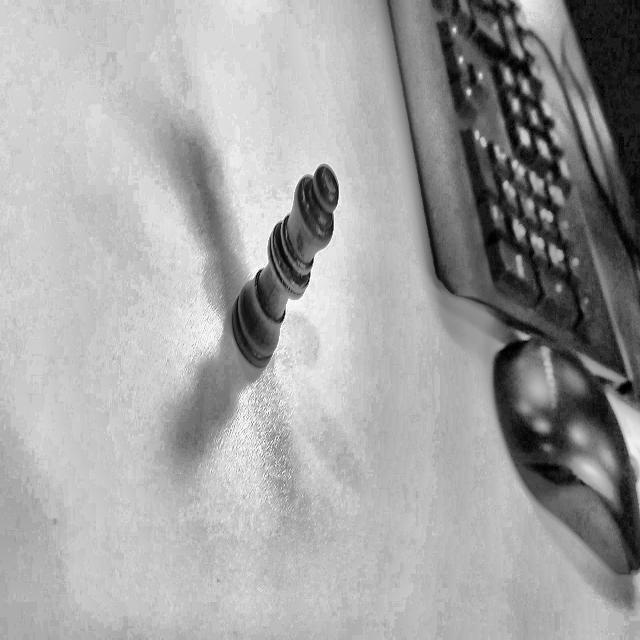black-queen: (224, 161, 350, 390)
